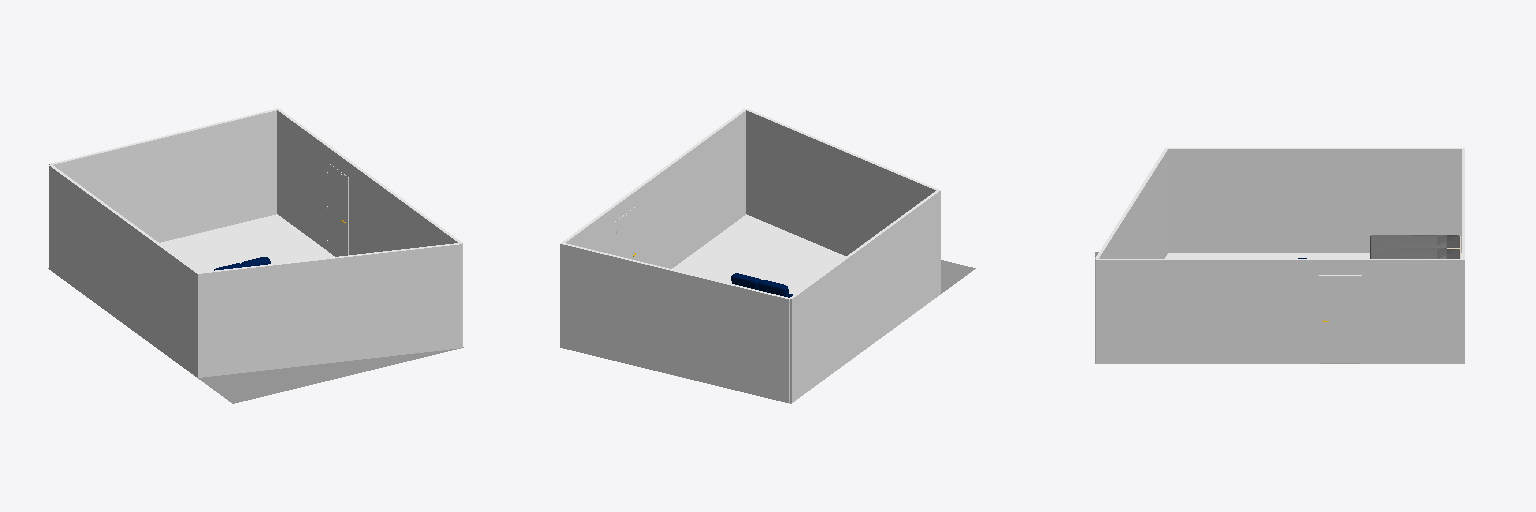
The model's file is house.obj.
3 views of the same model, side by side, from view 1: azimuth 30°, elevation 25°; view 2: azimuth 150°, elevation 25°; view 3: azimuth 270°, elevation 25° (orthographic).
Parts seen in each view (by area): view 1: wall_3_16, wall_1_5, wall_4_22, wall_2_11, room_5_26, ground_1, Porte_36; view 2: wall_1_4, wall_4_22, wall_3_17, wall_2_11, room_5_26, Porte_36, ground_1; view 3: wall_2_10, wall_4_23, wall_3_17, Porte_36, 27, room_5_26, Montant_34.
Boxes of the visible parts, box(x1,y1,x2,y2) form: wall_3_16: box(198, 244, 461, 377); wall_1_5: box(53, 110, 276, 242); wall_4_22: box(49, 166, 197, 377); wall_2_11: box(277, 110, 457, 254); room_5_26: box(160, 214, 334, 271); ground_1: box(48, 268, 463, 403); Porte_36: box(328, 165, 346, 256); wall_1_4: box(560, 244, 789, 403); wall_4_22: box(790, 191, 940, 402); wall_3_17: box(746, 110, 935, 255); wall_2_11: box(566, 111, 745, 268); room_5_26: box(672, 214, 845, 294); Porte_36: box(616, 209, 635, 259); ground_1: box(790, 260, 975, 403); wall_2_10: box(1096, 260, 1464, 363); wall_4_23: box(1168, 149, 1461, 252); wall_3_17: box(1099, 150, 1167, 258); Porte_36: box(1321, 278, 1358, 362); 27: box(1370, 235, 1446, 258); room_5_26: box(1165, 253, 1461, 258); Montant_34: box(1319, 275, 1361, 363).
Bounding box in the file's own units: 567 × 244 × 787.